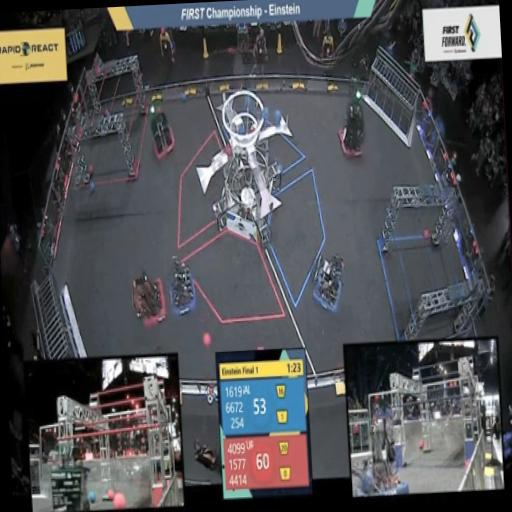robot: (309, 248, 350, 318), (128, 267, 168, 330), (167, 254, 199, 318), (336, 97, 366, 164), (146, 106, 176, 166)
